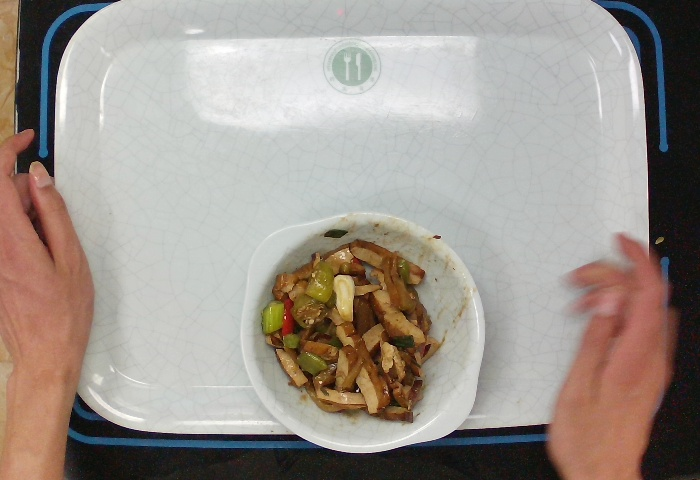JYsf-Shuang_Er_Wan: (240, 210, 490, 457)
